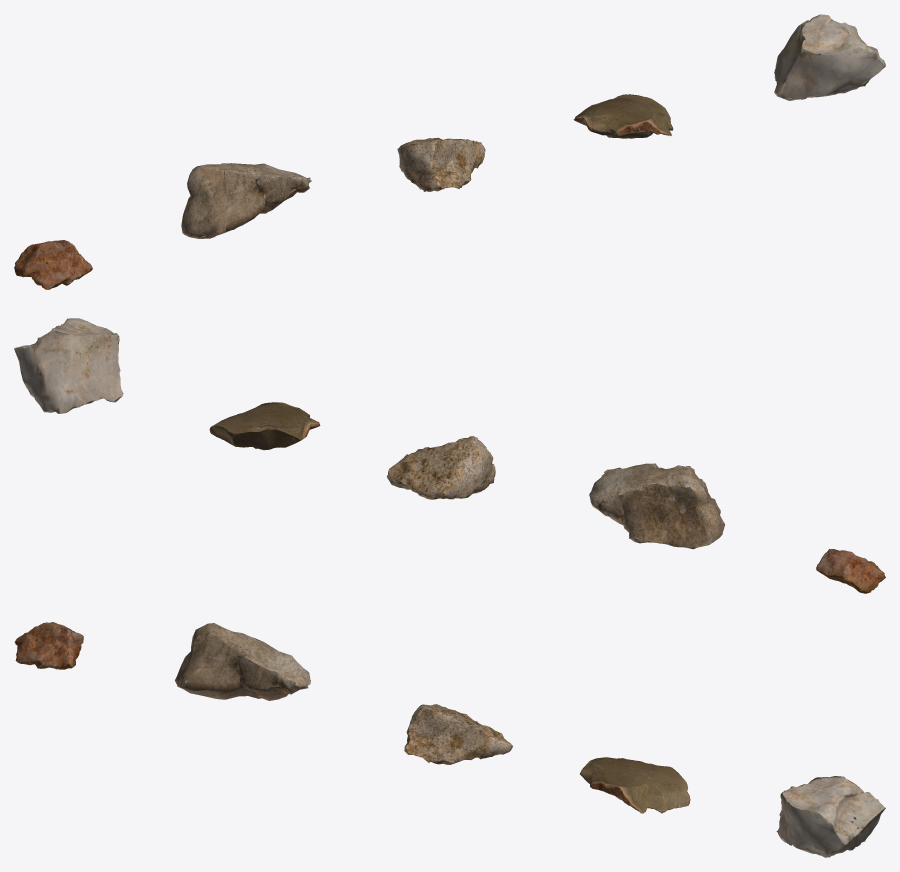
File: stones.glb
The picture shows the model from 3 angles, top to bottom: view 1: azimuth 30°, elevation 25°; view 2: azimuth 150°, elevation 25°; view 3: azimuth 330°, elevation 25°; orthographic projection.
Visible parts, largest first — view 1: namaqualand_stones_01_e, namaqualand_stones_01_b, namaqualand_stones_01_c, namaqualand_stones_01_d, namaqualand_stones_01_a; view 2: namaqualand_stones_01_b, namaqualand_stones_01_e, namaqualand_stones_01_c, namaqualand_stones_01_d, namaqualand_stones_01_a; view 3: namaqualand_stones_01_b, namaqualand_stones_01_e, namaqualand_stones_01_c, namaqualand_stones_01_d, namaqualand_stones_01_a.
Part boxes in pixels (bbox=[...]): namaqualand_stones_01_e: bbox=[774, 14, 885, 100]; namaqualand_stones_01_b: bbox=[181, 163, 311, 238]; namaqualand_stones_01_c: bbox=[397, 137, 485, 191]; namaqualand_stones_01_d: bbox=[573, 94, 673, 138]; namaqualand_stones_01_a: bbox=[14, 240, 92, 289]; namaqualand_stones_01_b: bbox=[589, 463, 724, 549]; namaqualand_stones_01_e: bbox=[14, 318, 123, 413]; namaqualand_stones_01_c: bbox=[386, 436, 495, 499]; namaqualand_stones_01_d: bbox=[209, 402, 320, 450]; namaqualand_stones_01_a: bbox=[816, 549, 885, 593]; namaqualand_stones_01_b: bbox=[175, 623, 310, 700]; namaqualand_stones_01_e: bbox=[776, 776, 885, 857]; namaqualand_stones_01_c: bbox=[404, 704, 512, 764]; namaqualand_stones_01_d: bbox=[580, 757, 690, 813]; namaqualand_stones_01_a: bbox=[14, 622, 83, 669].
Bounding box in the file's own units: 1 × 0.0817 × 0.1098.
Materials: 1 (1 with a texture image).
